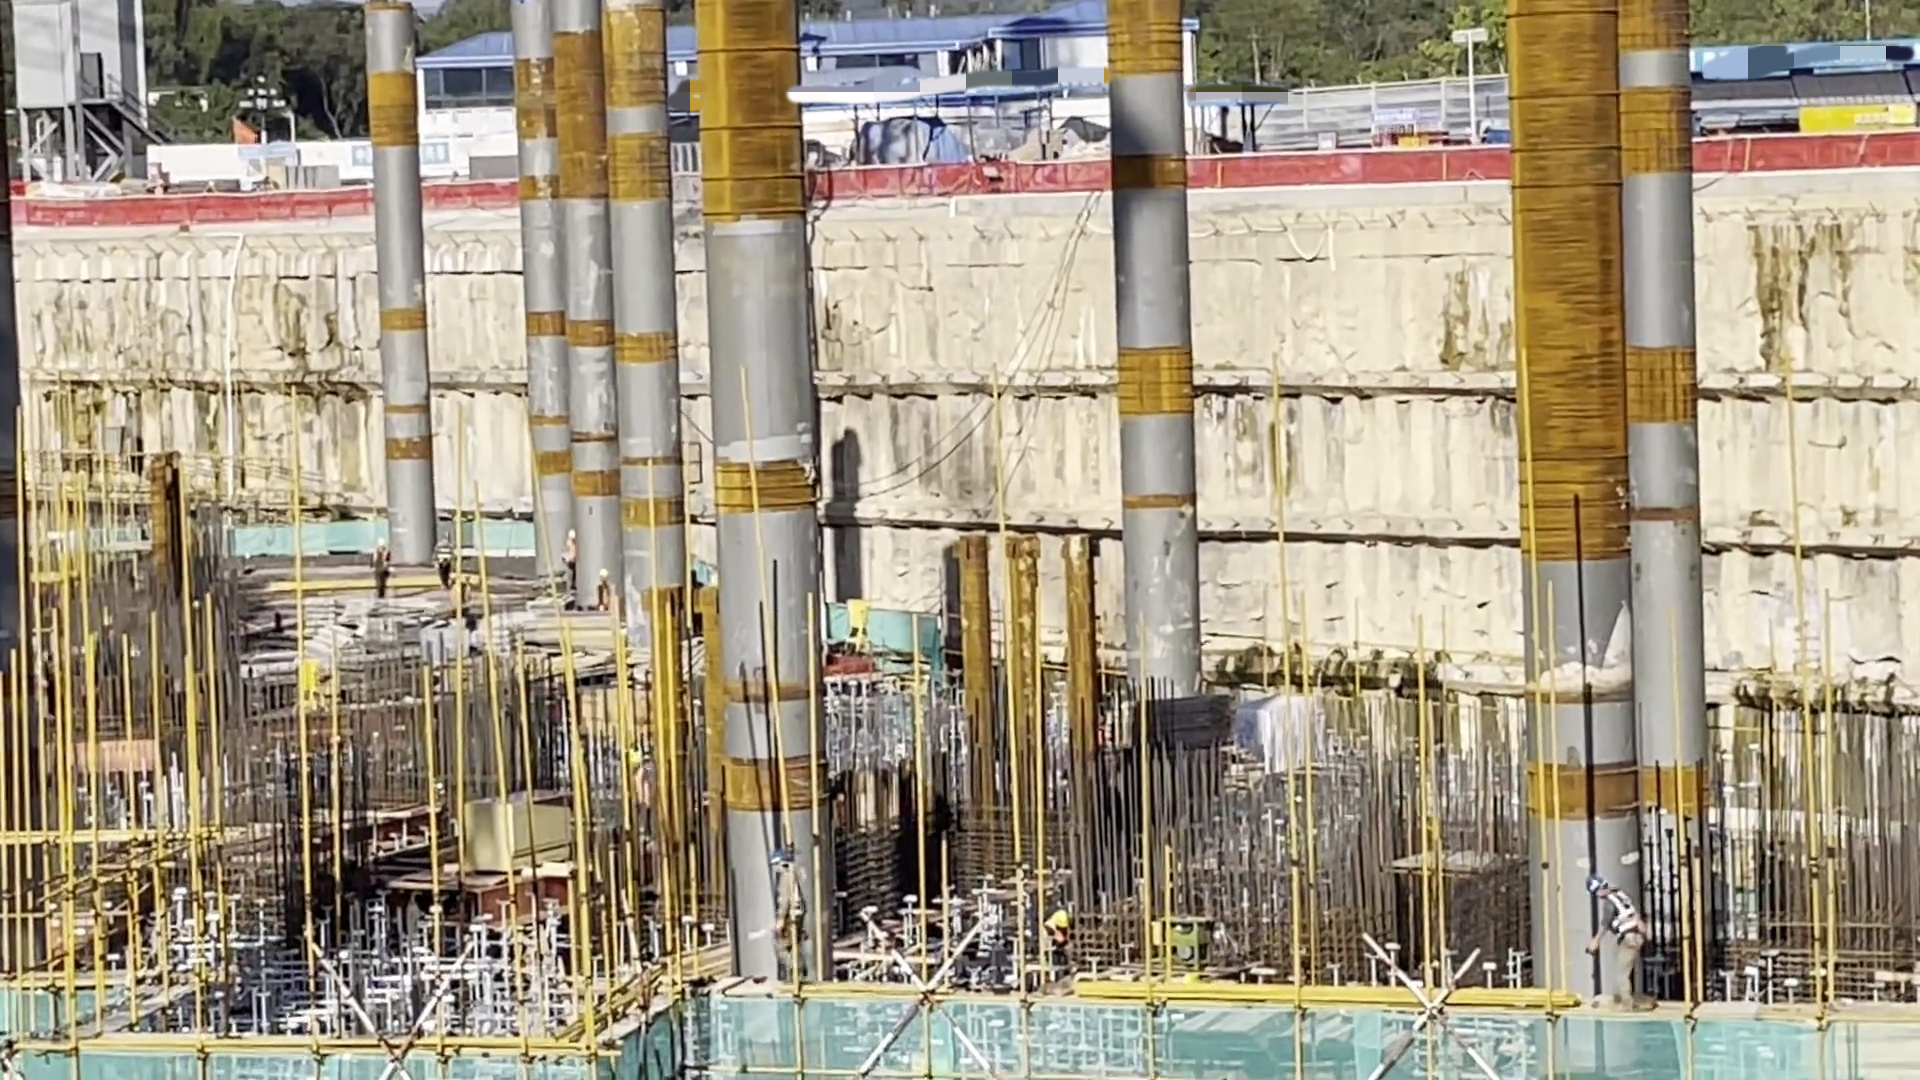board: (459, 797, 593, 896)
ebox: (303, 659, 331, 691), (844, 606, 878, 632)
fence: (1, 189, 366, 235), (1184, 141, 1516, 191), (819, 154, 1103, 201), (1686, 134, 1920, 170), (419, 177, 524, 207)
helmet: (771, 844, 798, 877), (1053, 907, 1071, 934), (1586, 872, 1599, 899), (444, 532, 457, 549), (597, 566, 608, 582), (378, 535, 389, 550), (567, 527, 580, 538)
person: (1573, 868, 1648, 1013), (764, 846, 816, 996), (1031, 905, 1079, 985), (554, 523, 586, 595), (366, 526, 398, 596), (431, 533, 459, 575), (597, 567, 615, 615)
vest: (769, 874, 811, 926), (1608, 902, 1646, 936), (1043, 927, 1066, 952), (371, 549, 392, 572), (437, 540, 456, 564), (597, 584, 612, 609), (562, 540, 576, 558)
